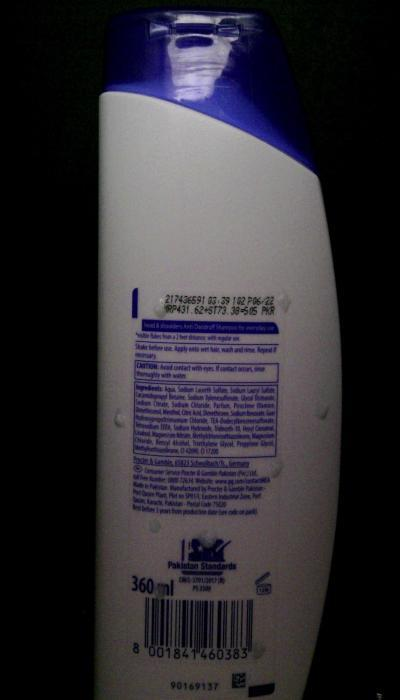pob_marg: (140, 14, 174, 48), (146, 294, 177, 327), (306, 394, 336, 428), (262, 454, 288, 488), (106, 403, 134, 434), (144, 512, 170, 540), (274, 290, 298, 320), (194, 527, 222, 552), (246, 638, 270, 665), (148, 578, 170, 604)
